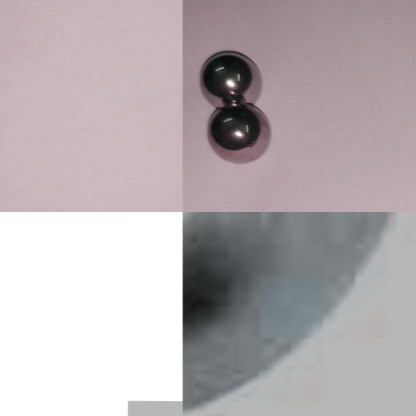ironball: (182, 211, 415, 415), (205, 100, 271, 164), (198, 49, 272, 103)
